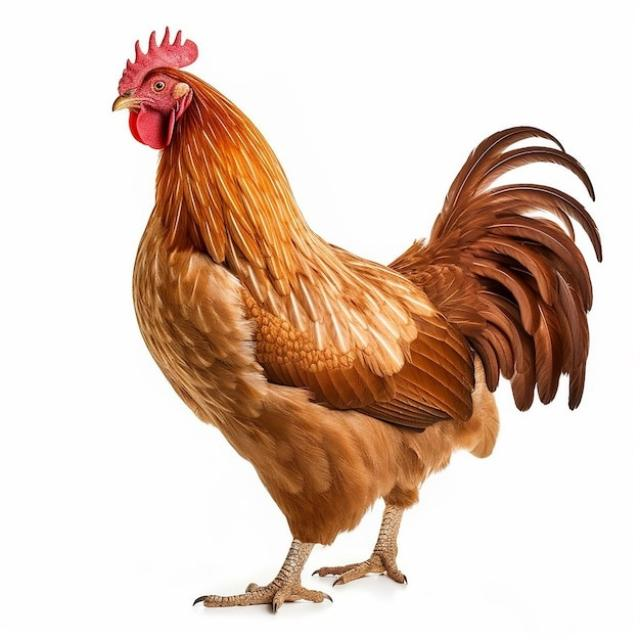Chicken: (110, 26, 601, 613)
